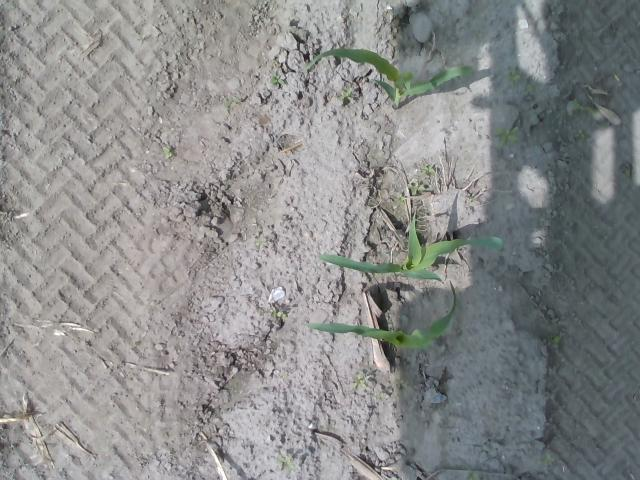Maize: (316, 210, 504, 280), (306, 280, 459, 354), (303, 44, 475, 109)
Weeds: (496, 126, 519, 145), (502, 64, 524, 81), (274, 457, 298, 471), (352, 372, 368, 390), (408, 181, 426, 196), (336, 88, 354, 103), (420, 164, 437, 178), (271, 72, 287, 86), (270, 310, 288, 322), (546, 334, 560, 348), (574, 127, 587, 140), (161, 144, 173, 158), (543, 454, 555, 466), (255, 238, 268, 248), (466, 471, 480, 480), (397, 196, 405, 206)
